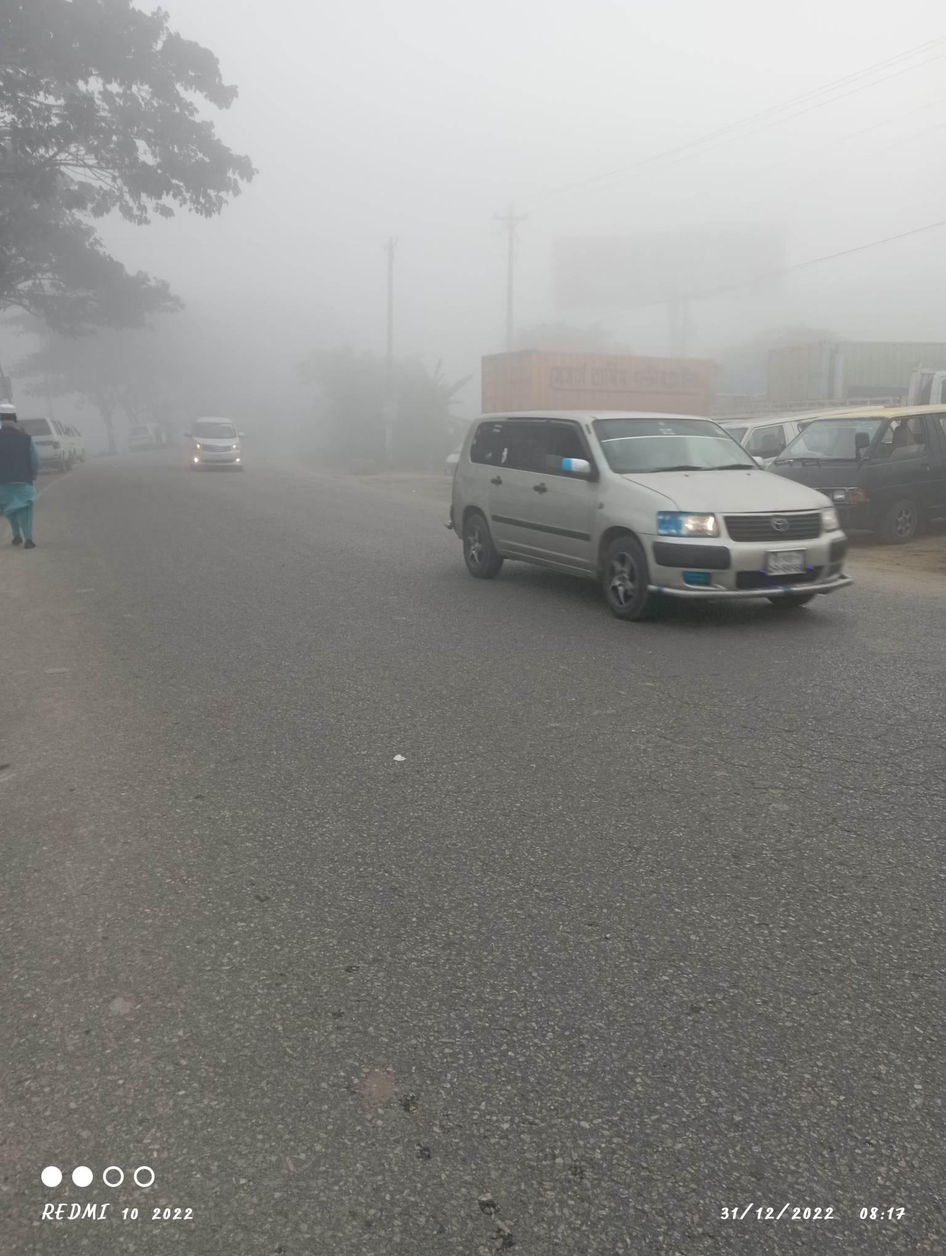Car: (439, 383, 872, 659), (174, 400, 262, 490), (15, 400, 87, 490)
